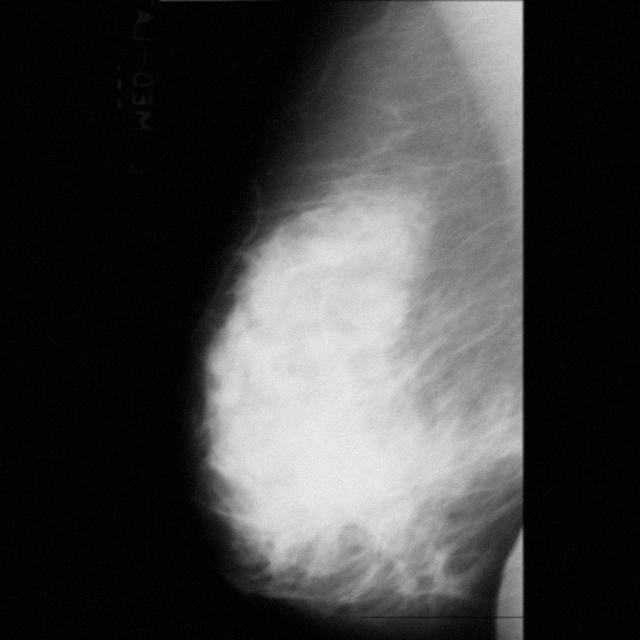ASYM: (261, 404, 384, 527)
